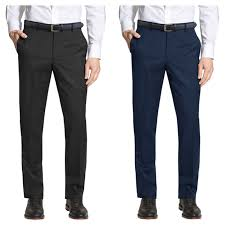F_belt: (133, 13, 205, 35), (19, 17, 86, 33)
F_dress pants: (123, 30, 207, 204), (13, 30, 94, 207)
